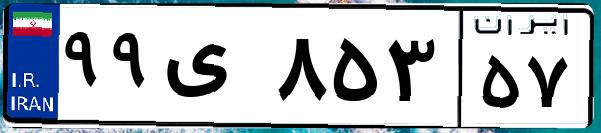3: (385, 28, 445, 110)
5: (330, 28, 385, 110), (475, 38, 525, 113)
7: (525, 38, 570, 115)
8: (270, 28, 330, 110)
9: (57, 26, 110, 100), (110, 28, 158, 98)
ی: (158, 20, 270, 120)
